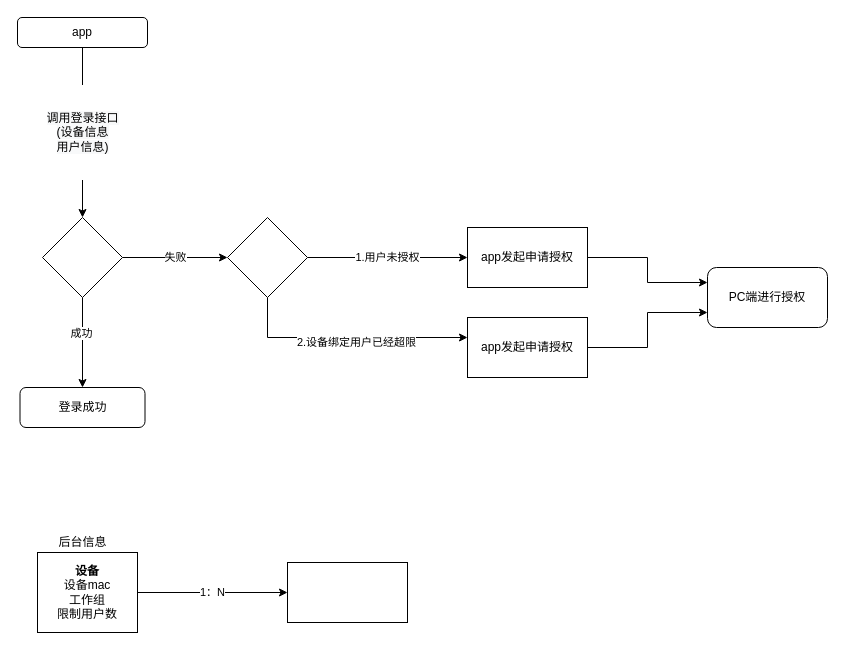
Some shapes in this 845 by 650 pixel diagram are drawn without their labels. The centre of each missing label's shape, as x and y in pixels:
"失败原因" goes at (267,257).
"用户 用户id 工作组" goes at (347,592).
"登录" goes at (82,257).
